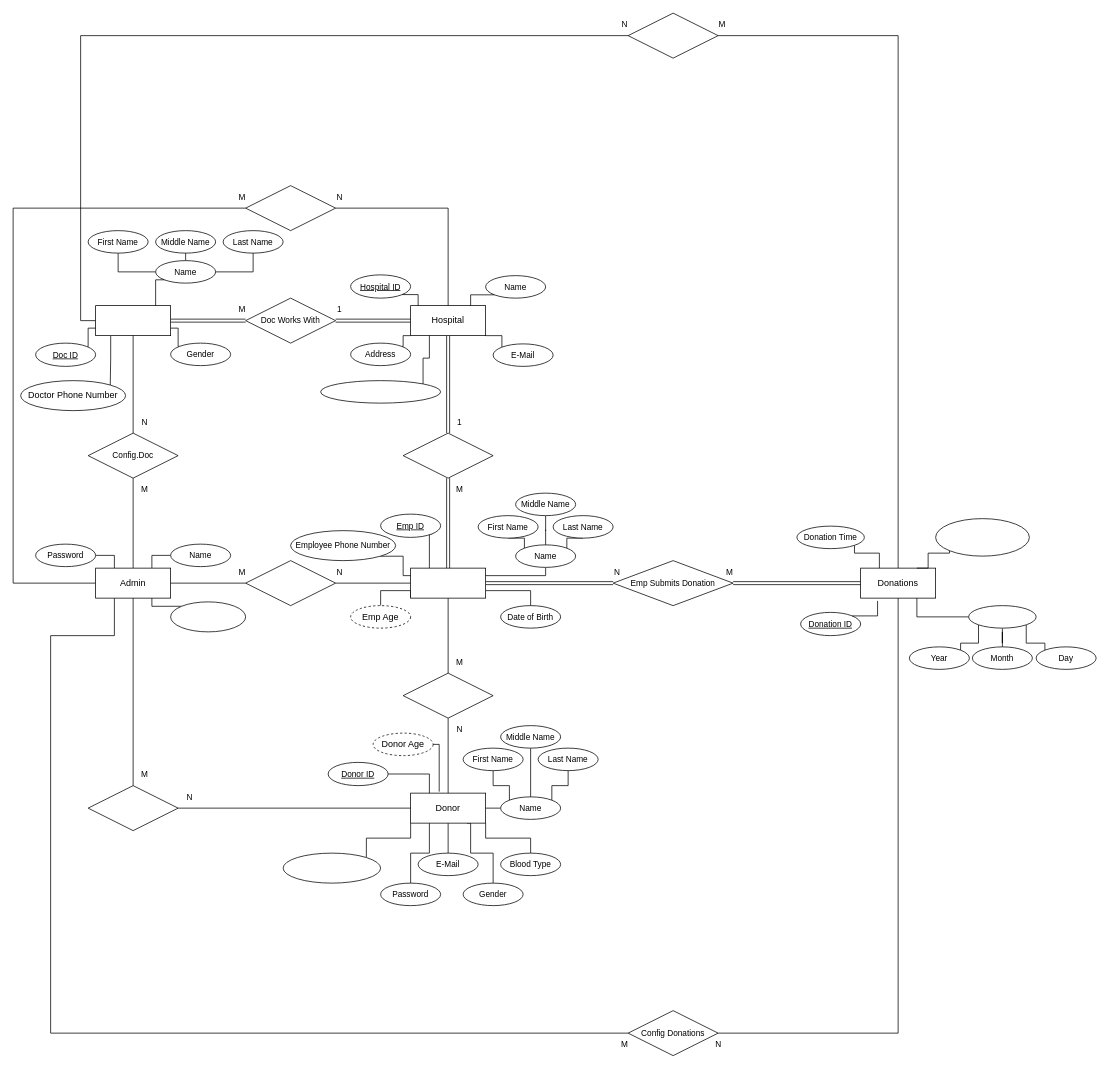
This 1109x1069 diagram has some shape labels left out. Here are the shapes that lost their labels. From the top down, the centre of each, then its label:
(x=672, y=35): Browse Donations
(x=290, y=208): Config.Hosp
(x=133, y=320): Doctor
(x=380, y=391): Hospital Phone Number
(x=447, y=455): Emp Works At
(x=982, y=537): Donation Blood Type
(x=290, y=583): Config.Emp
(x=448, y=582): Employee
(x=208, y=616): Admin ID
(x=1002, y=616): Donation Date
(x=447, y=695): Donor Requests
(x=132, y=808): Config.Donor
(x=331, y=867): Donor Phone Number
